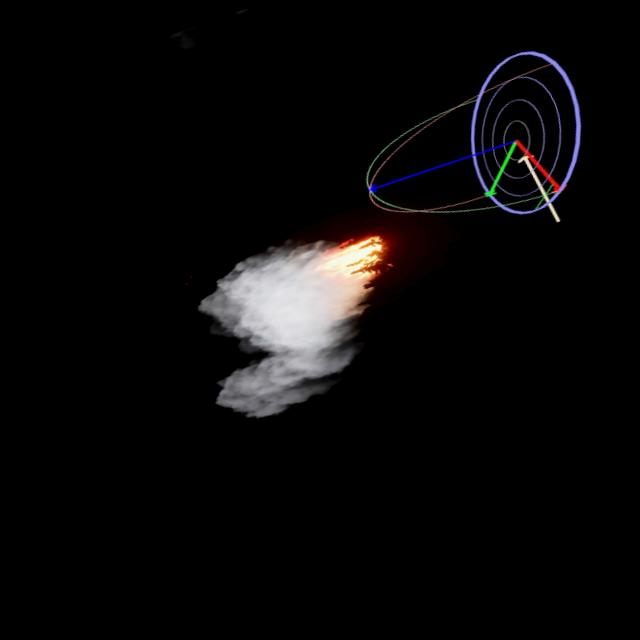fire: (315, 223, 395, 296)
smoke: (168, 223, 395, 430)
